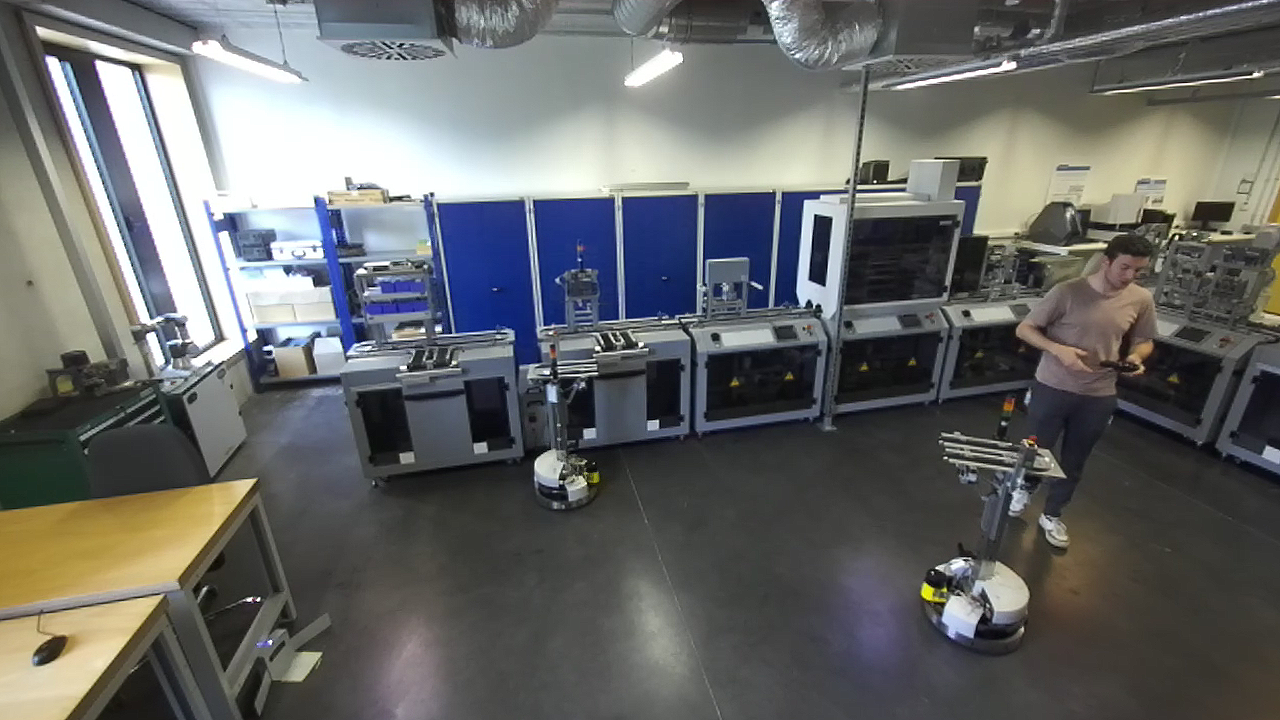AMR: (915, 393, 1073, 659), (521, 325, 606, 512)
Human: (1014, 216, 1157, 549)
